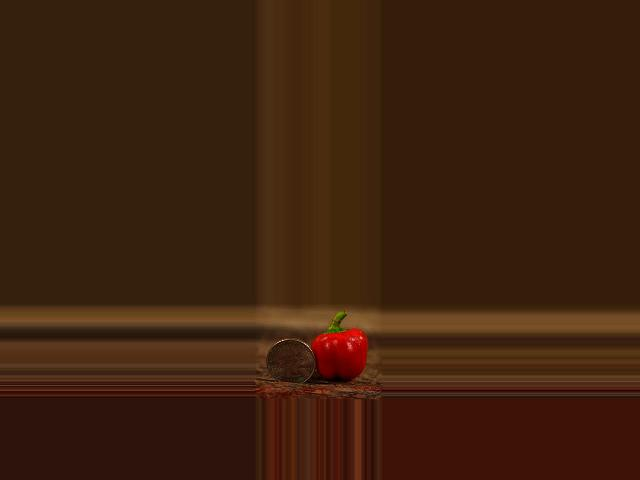bell_pepper: (313, 311, 368, 383)
